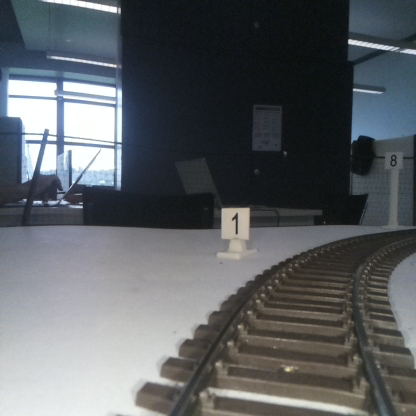white-info-8: (385, 151, 402, 228)
white-stop-1: (221, 208, 249, 257)
